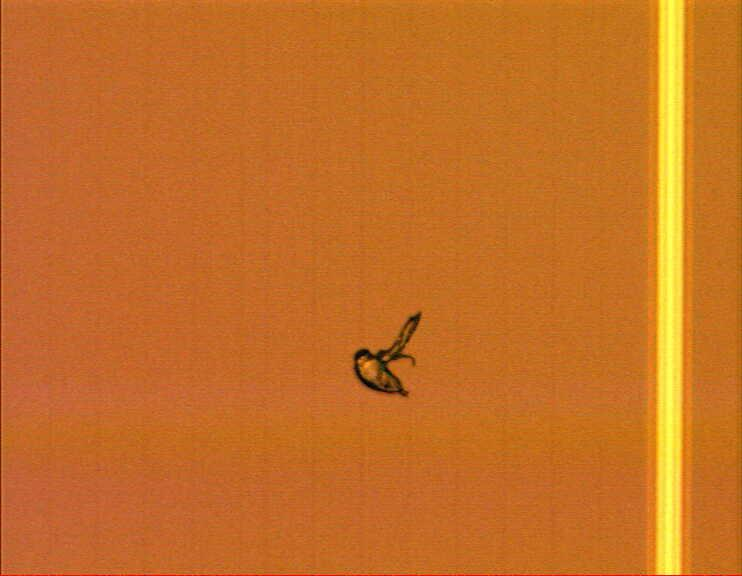PIQ PARTICLE: (341, 303, 430, 407)
